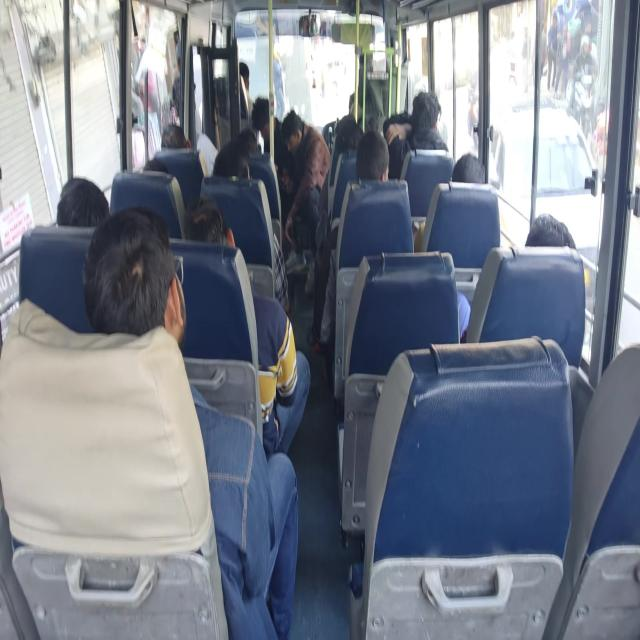person: (82, 205, 299, 638), (185, 195, 311, 456), (314, 129, 390, 349), (458, 212, 576, 342), (212, 140, 290, 314), (280, 109, 331, 263), (384, 90, 448, 178), (251, 94, 292, 188), (56, 177, 110, 227), (525, 212, 576, 248), (451, 152, 486, 184), (160, 123, 188, 149)
